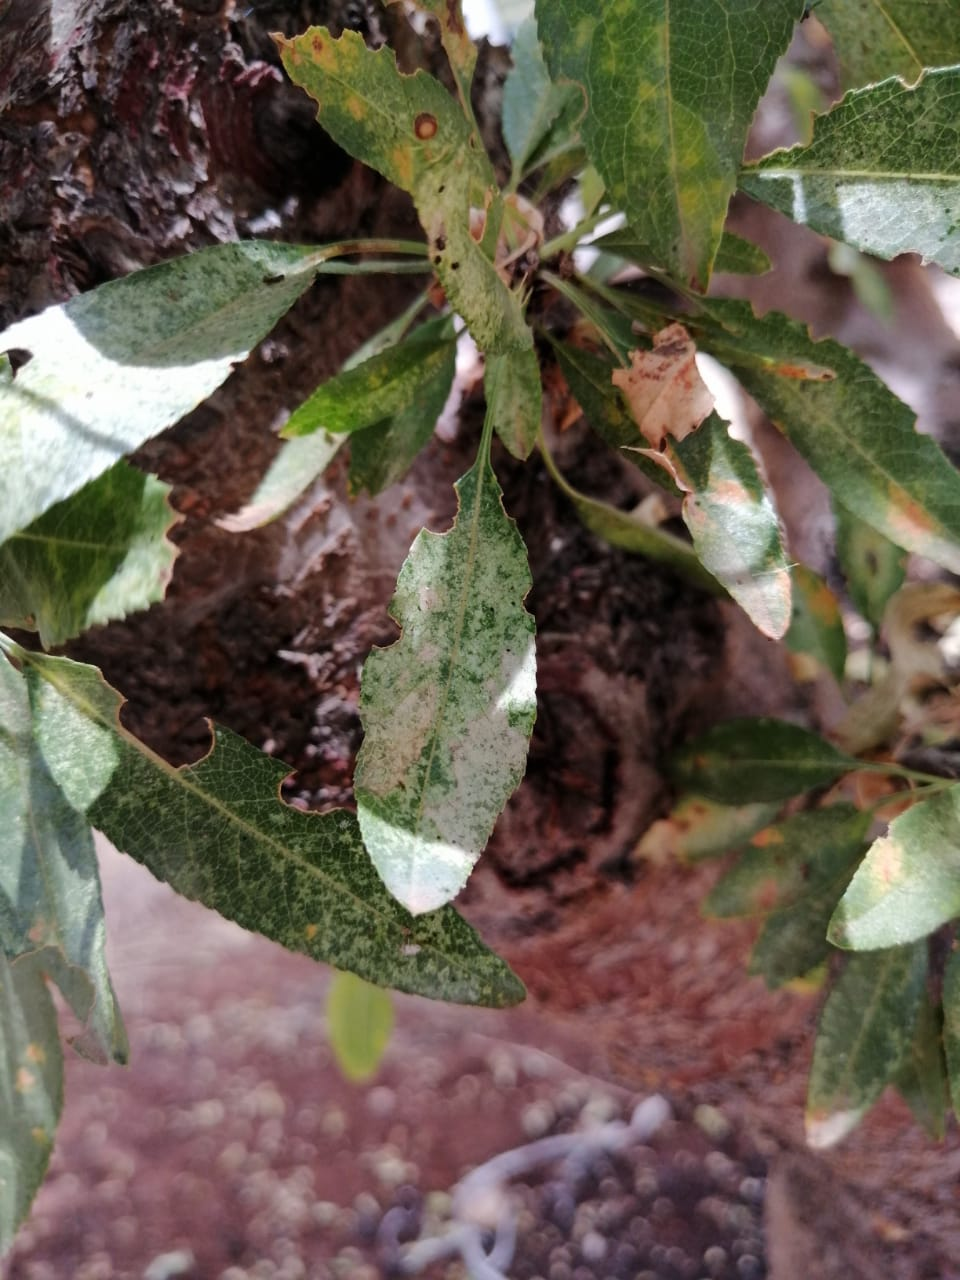faux tigre: (21, 649, 529, 1010), (1, 241, 333, 545), (348, 457, 541, 917)
